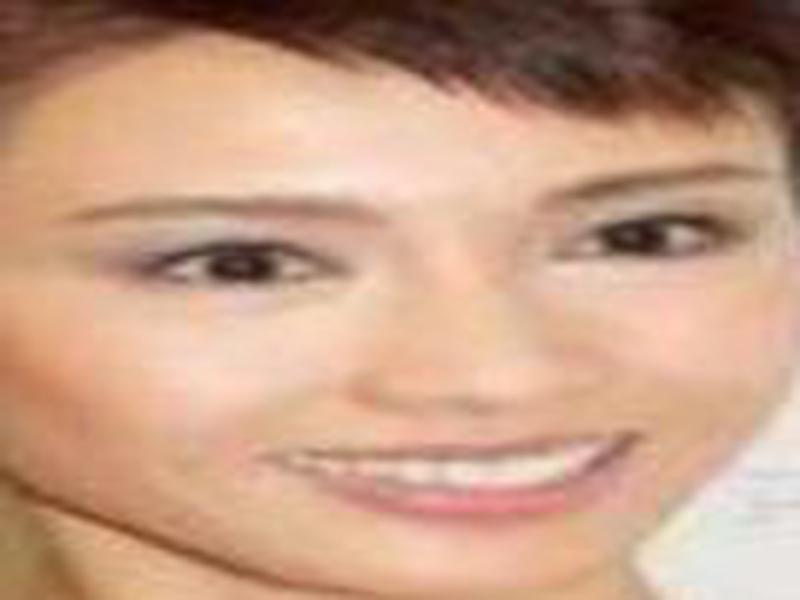without_mask: (8, 40, 797, 599)
